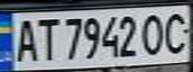2: (115, 11, 142, 60)
4: (100, 12, 121, 60)
7: (60, 14, 84, 61)
9: (78, 14, 103, 61)
A: (9, 16, 39, 63)
C: (160, 8, 193, 55)
O: (139, 10, 169, 56)
T: (33, 15, 60, 62)
